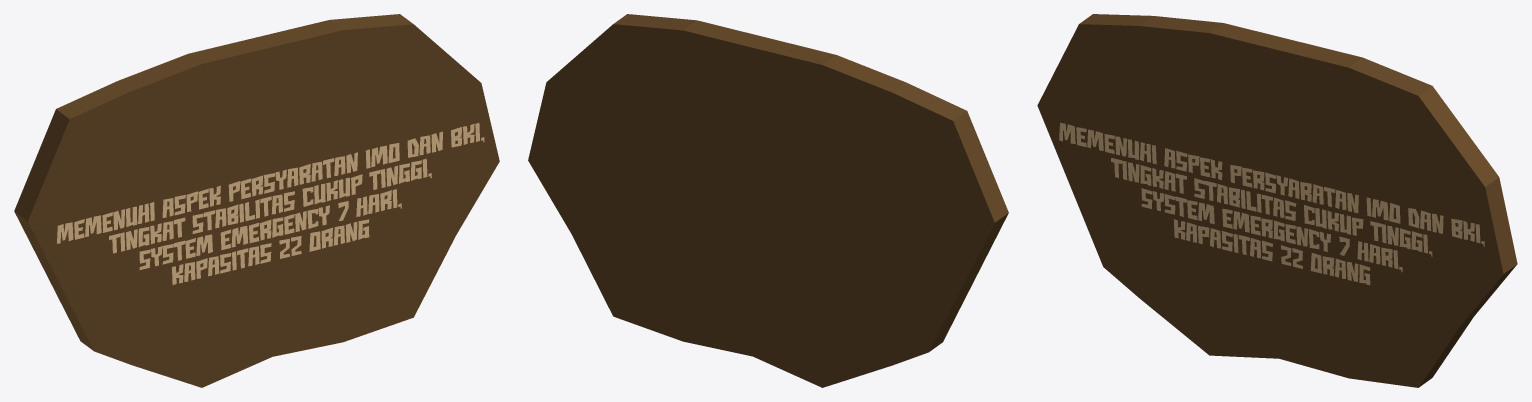
The model's file is ui_3_PerahuSekoci.fbx.
The picture shows the model from 3 angles, left to right: view 1: azimuth 30°, elevation 25°; view 2: azimuth 150°, elevation 25°; view 3: azimuth 330°, elevation 25°; orthographic projection.
Visible parts, largest first — view 1: Cube.003, Text.002; view 2: Cube.003; view 3: Cube.003, Text.002.
Boxes of the visible parts, <box> form: Cube.003: <box>14,14,499,387</box>; Text.002: <box>57,123,484,284</box>; Cube.003: <box>528,14,1008,387</box>; Cube.003: <box>1037,14,1517,387</box>; Text.002: <box>1059,122,1484,285</box>.
Bounding box in the file's own units: 256 × 168 × 16.49.
